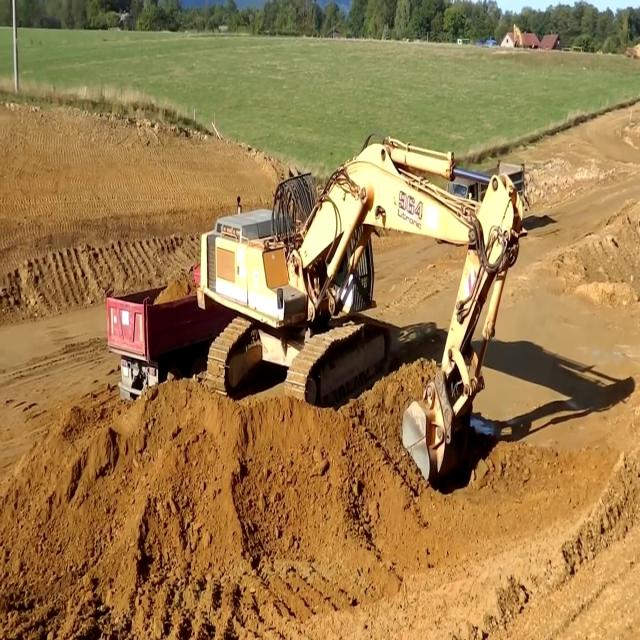excavator: (186, 133, 538, 488)
